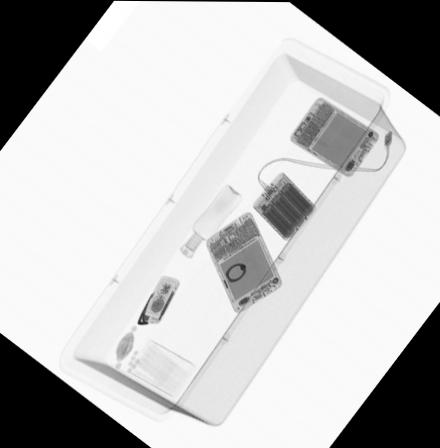Powerbank: (246, 169, 317, 244)
